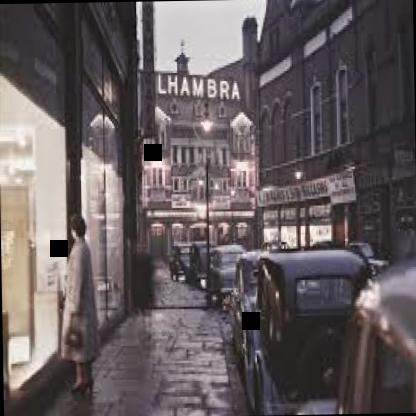car: (230, 228, 374, 416), (320, 236, 416, 413)
